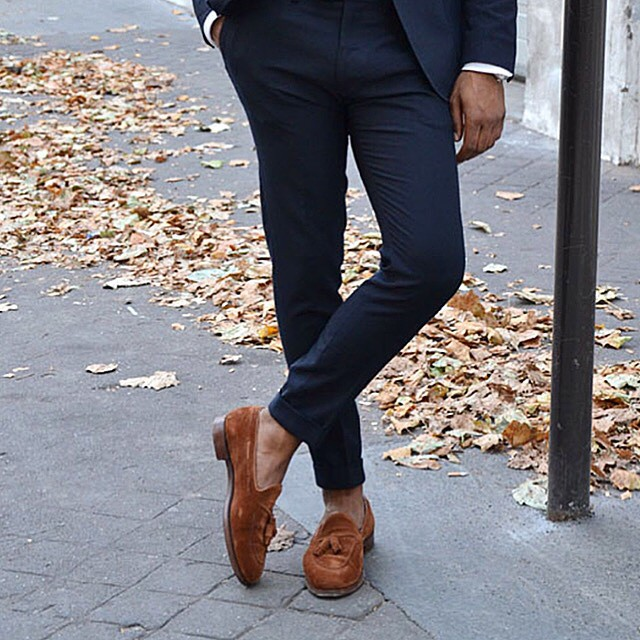sneaker: (198, 388, 316, 601), (293, 476, 402, 607)
